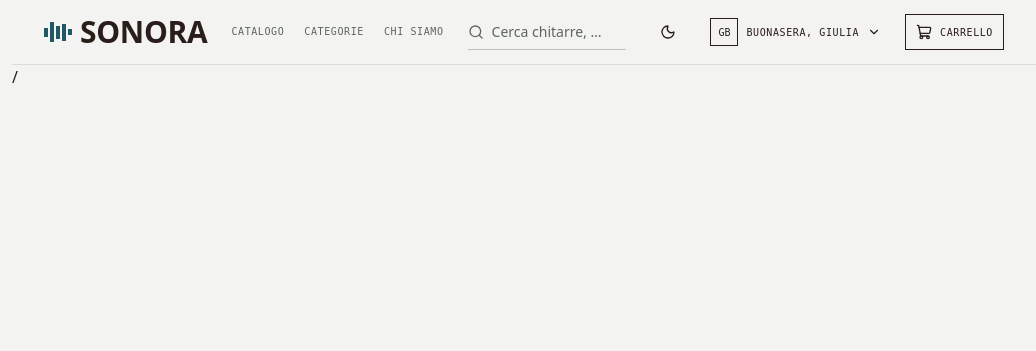
menu dell'account › si apre dall'header e mostra le sezioni dell'area personale come link
The width and height of the screenshot is (1036, 351).
Click the button with aria-label "Il mio account, Giulia Bianchi": (796, 32) x1=710 y1=14 x2=881 y2=50
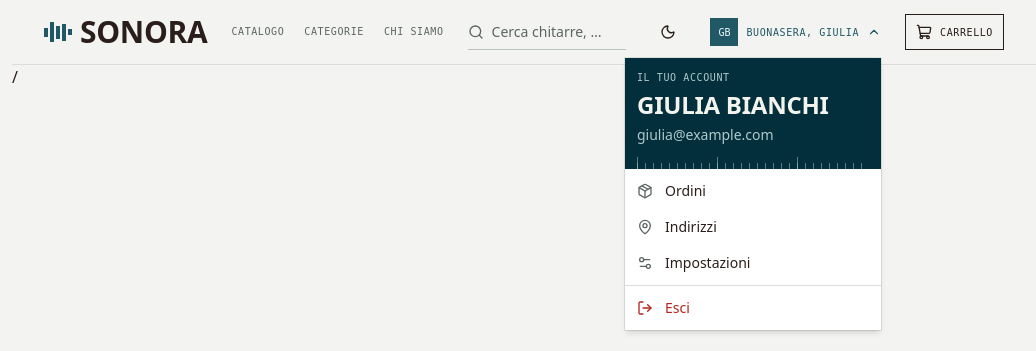
Expected: the text "Giulia Bianchi" is shown, x1=637 y1=88 x2=829 y2=121
Expected: the text "giulia@example.com" is shown, x1=637 y1=125 x2=774 y2=144
